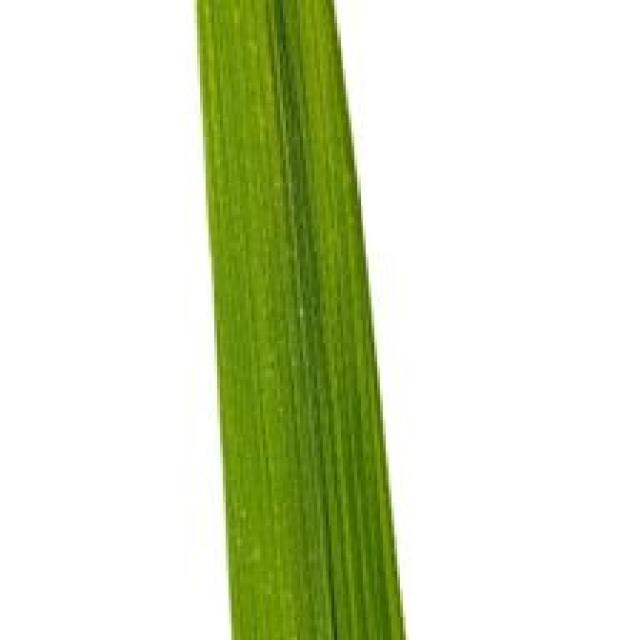Rice___Healthy_Rice_Plant: (192, 0, 410, 637)
